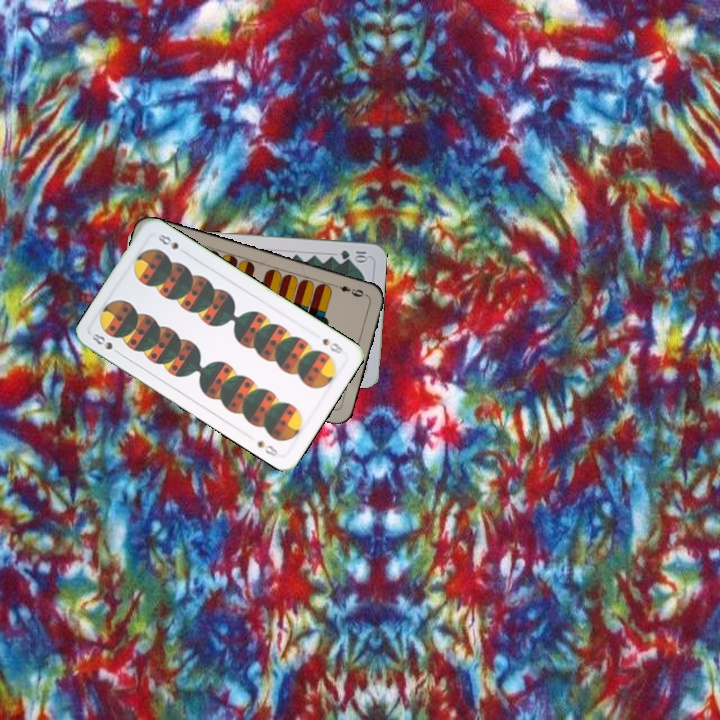E9: (330, 280, 366, 300)
G10: (337, 246, 371, 263)
S8: (318, 334, 349, 356), (88, 329, 115, 352)
